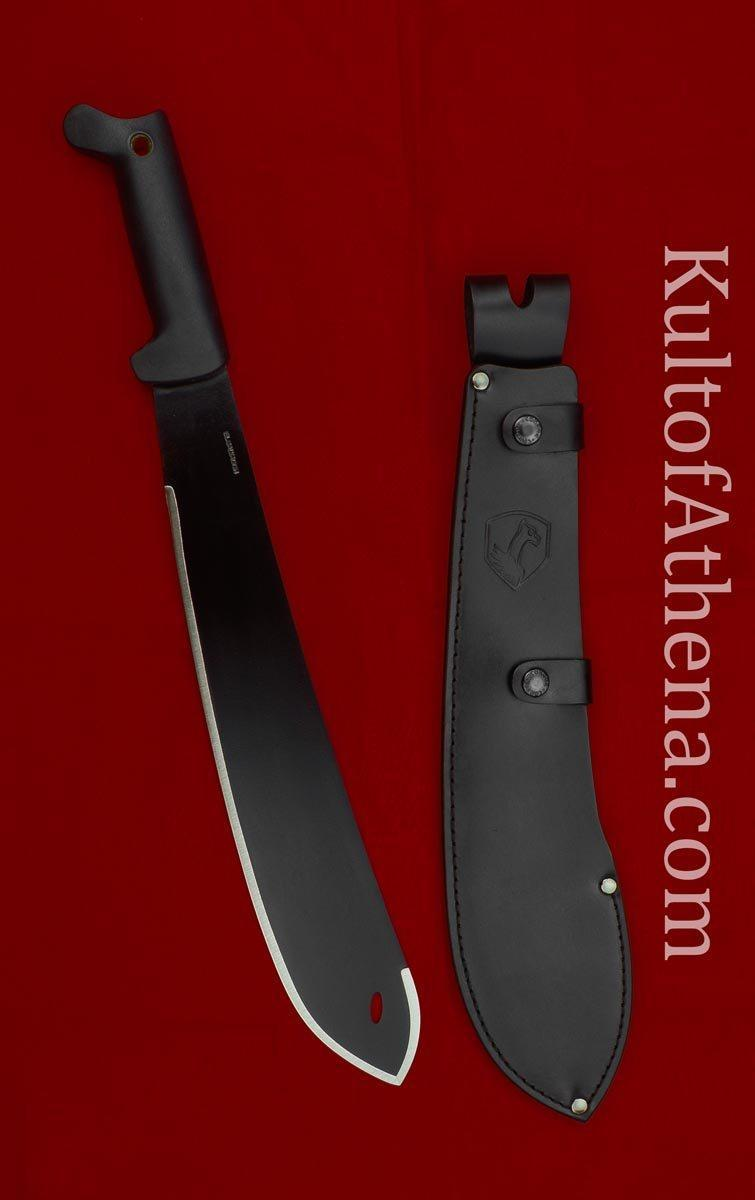facao: (65, 105, 420, 1084)
